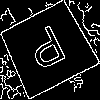P: (23, 24, 73, 80)
